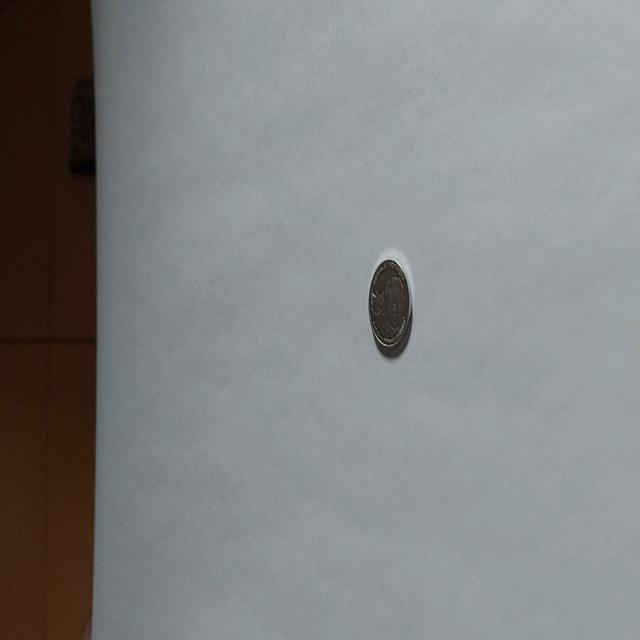seratus rupiah: (367, 256, 413, 356)
